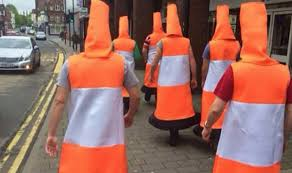cones: (51, 2, 136, 173), (220, 4, 284, 173), (147, 3, 195, 132), (204, 6, 231, 137)
